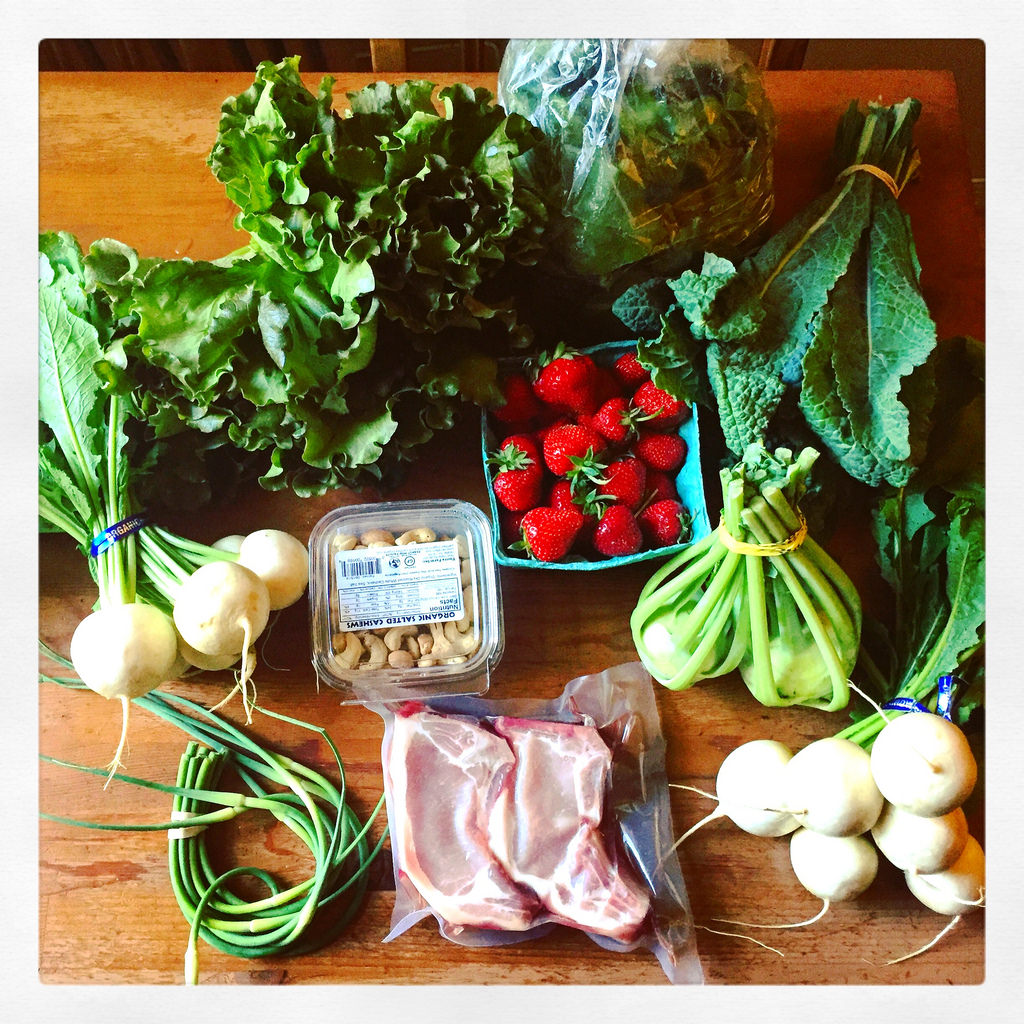chopped lettuce: (174, 113, 567, 449), (687, 102, 953, 493), (642, 454, 878, 727), (862, 496, 989, 726)
